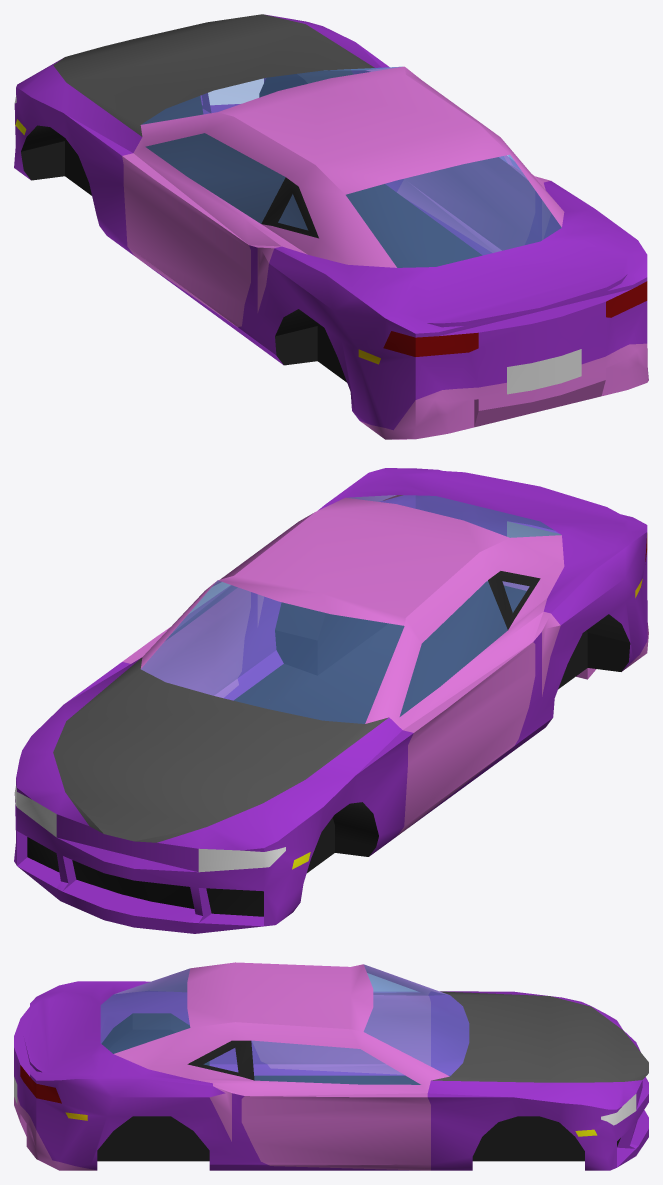
The model's file is Supremacy.fbx.
3 views of the same model, one above another, from view 1: azimuth 30°, elevation 25°; view 2: azimuth 150°, elevation 25°; view 3: azimuth 270°, elevation 25° (orthographic). The views are drawn at different scales.
Parts seen in each view (by area): view 1: _(Loose Entity); view 2: _(Loose Entity); view 3: _(Loose Entity).
Part boxes in pixels (x1,y1,x2,y2): _(Loose Entity): [14, 14, 648, 439]; _(Loose Entity): [14, 468, 648, 933]; _(Loose Entity): [14, 962, 648, 1170].
Bounding box in the file's own units: 198 × 124 × 503.
